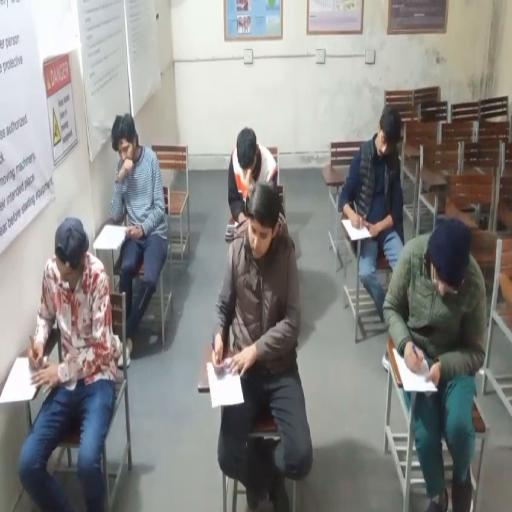paper: (206, 360, 244, 408), (0, 357, 38, 404), (396, 349, 437, 392), (94, 224, 128, 249), (341, 217, 372, 240)
